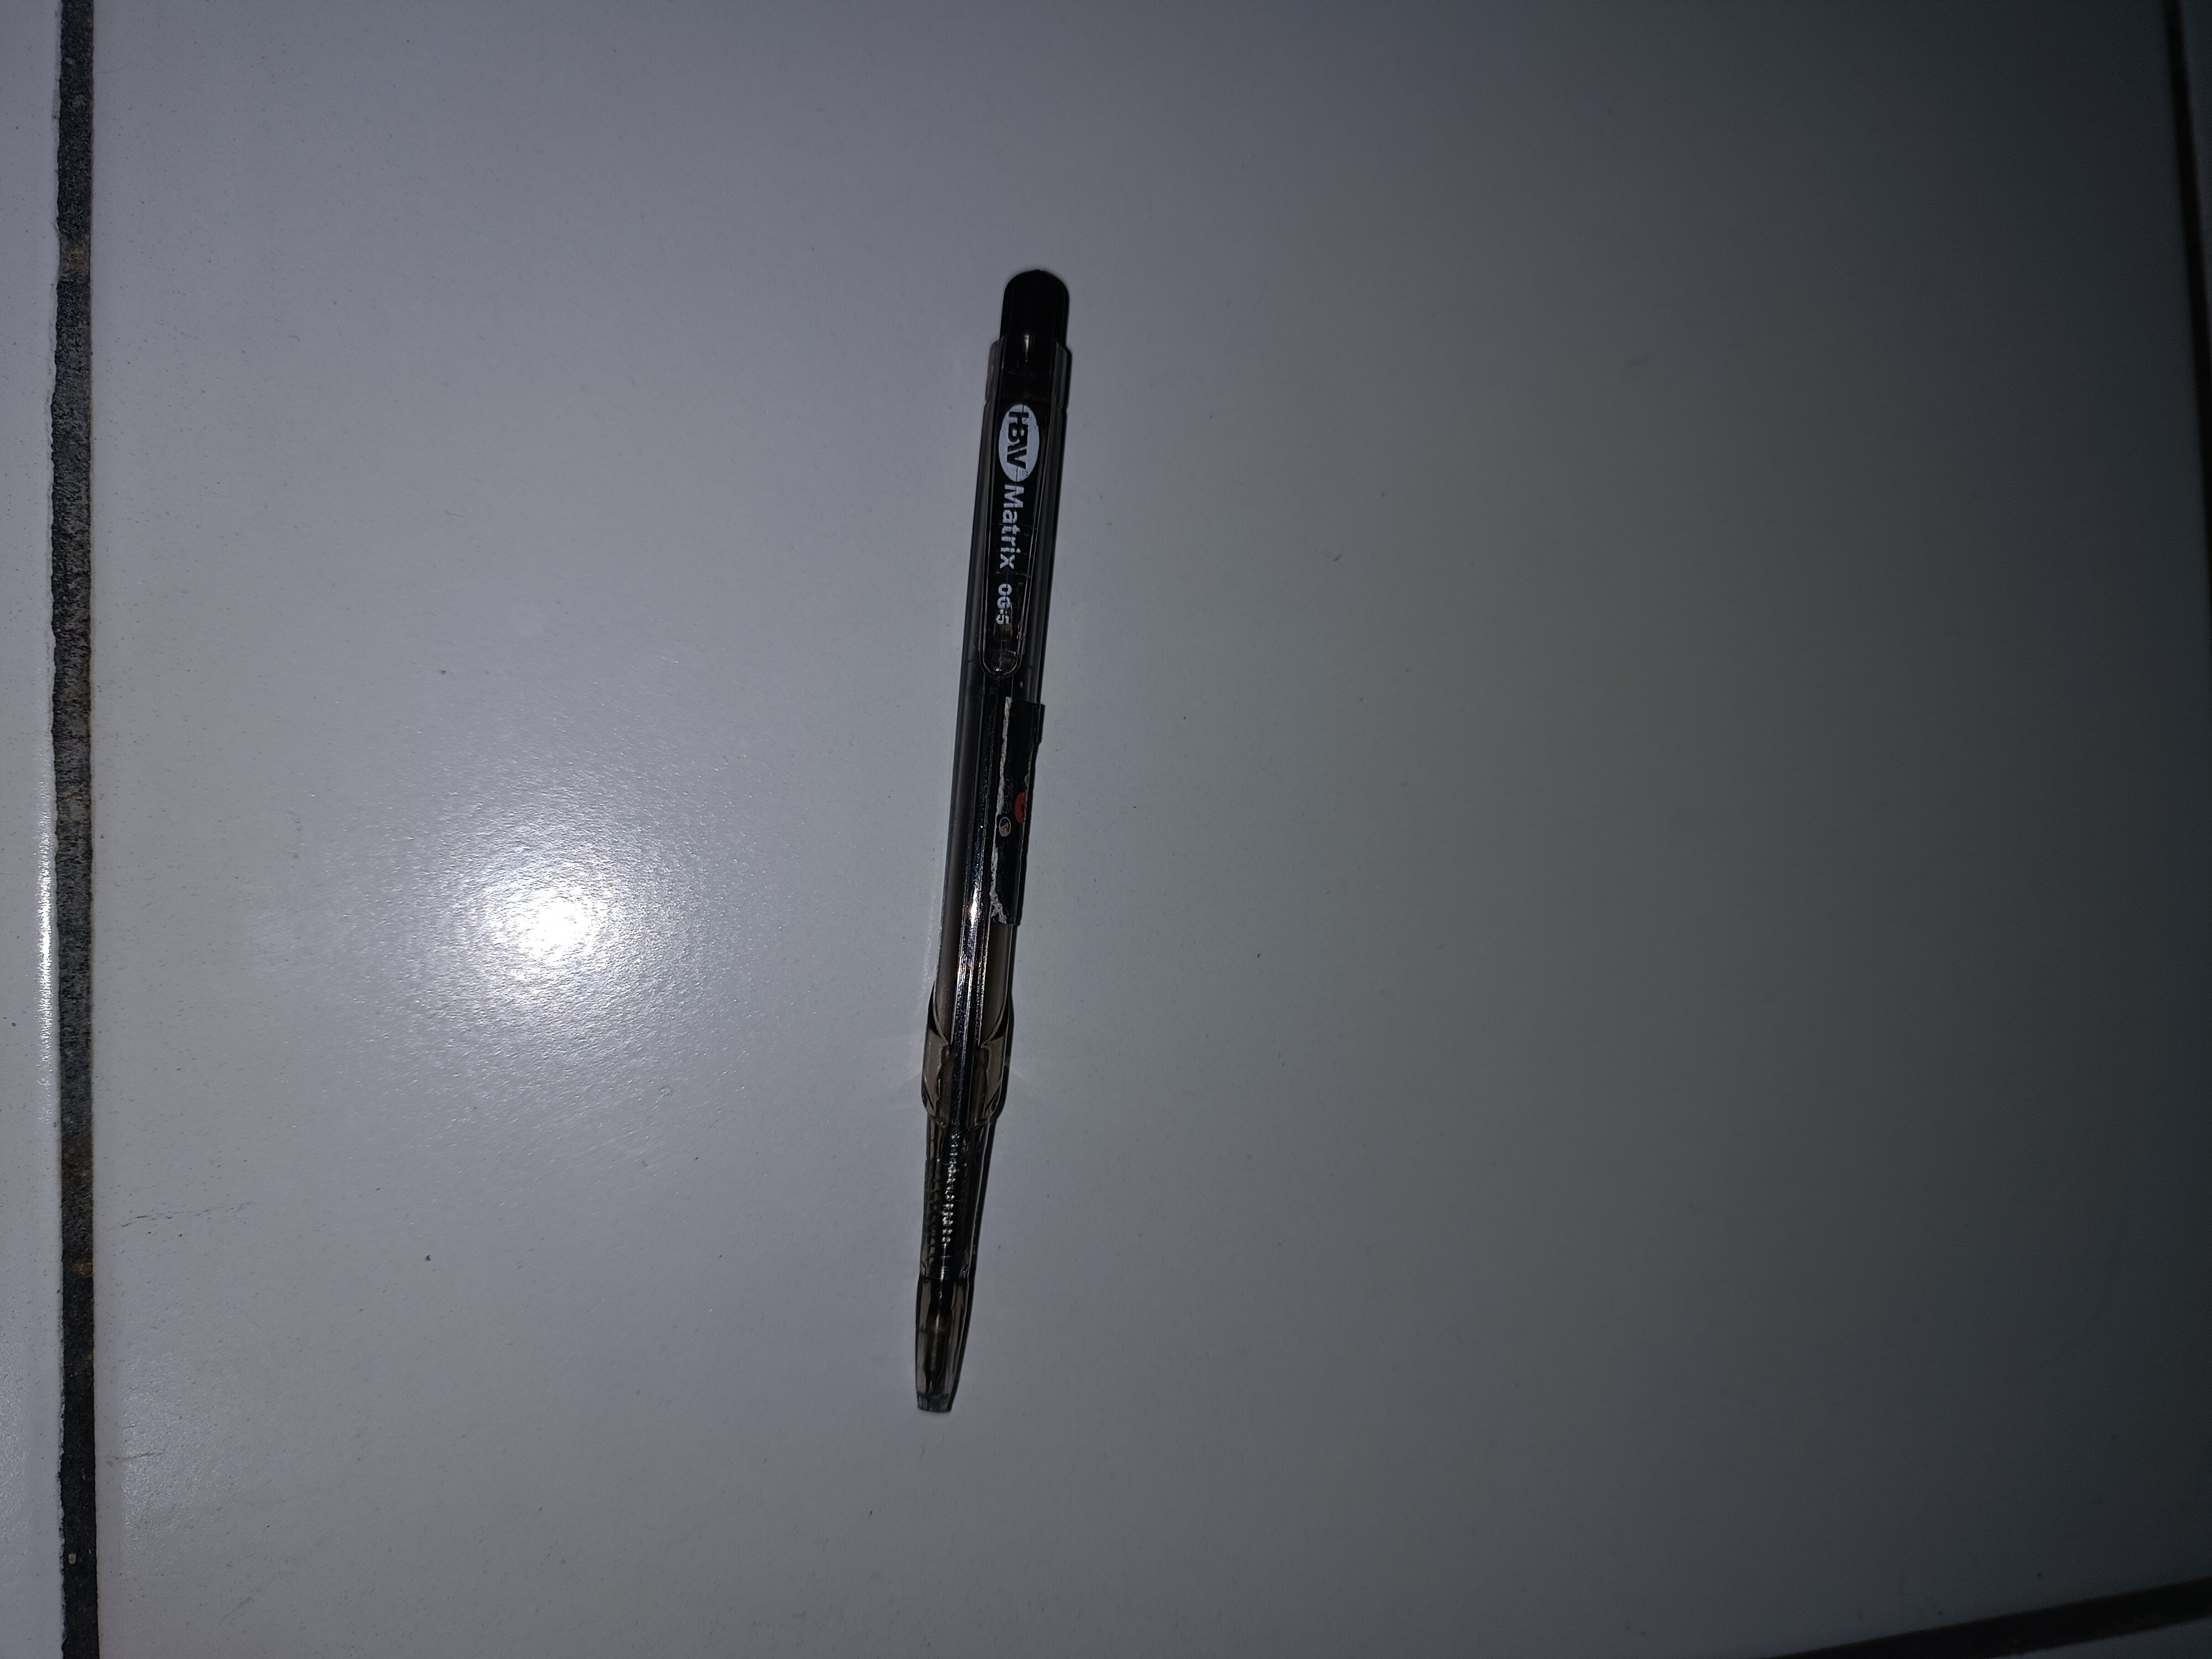Pen: (813, 232, 1148, 1448)
